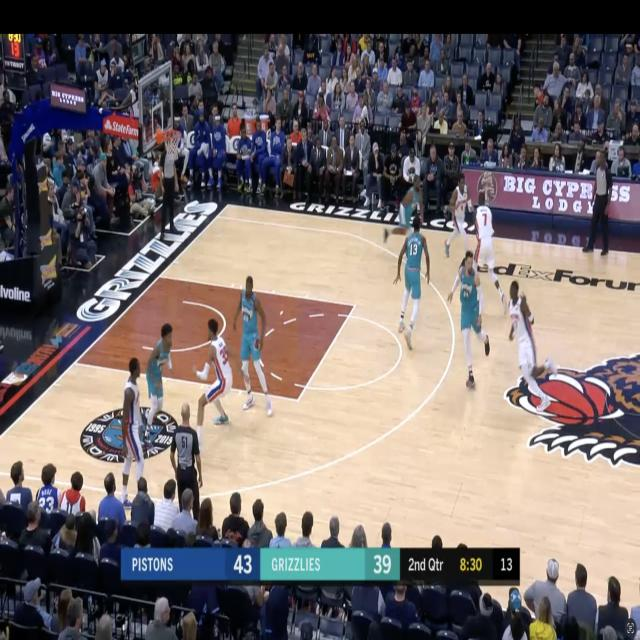no foul: (176, 270, 275, 452), (436, 190, 501, 325)
